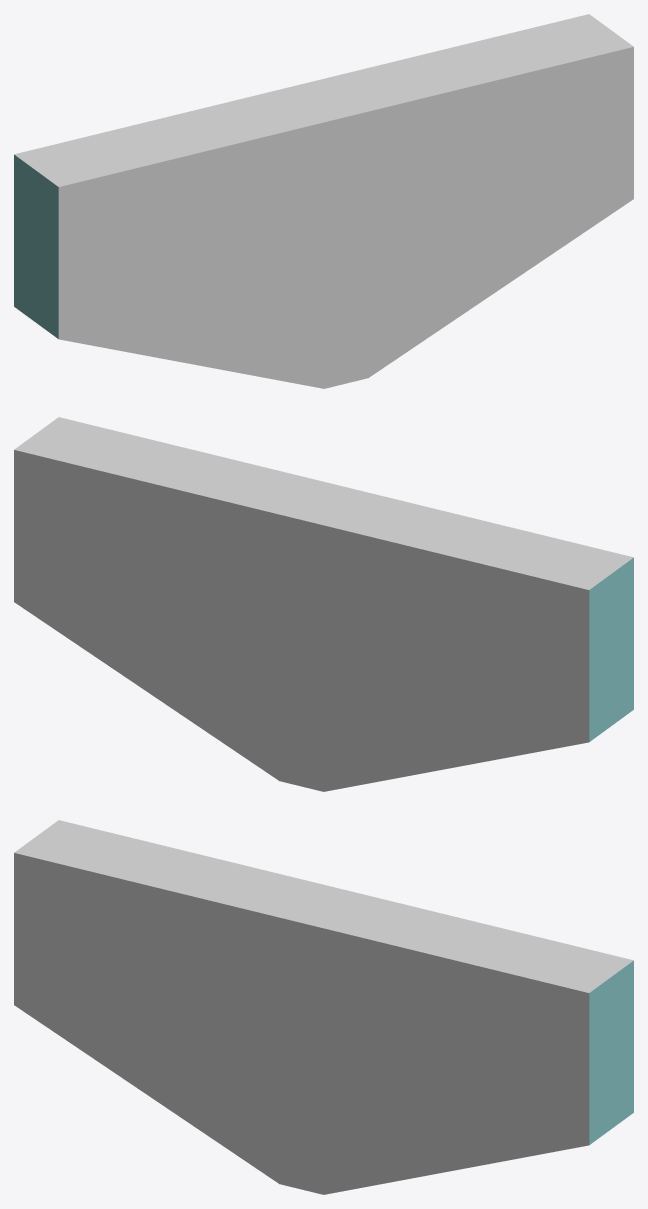
The model's file is W_M_maze_DecoLight_L3.fbx.
The picture shows the model from 3 angles, top to bottom: view 1: azimuth 30°, elevation 25°; view 2: azimuth 150°, elevation 25°; view 3: azimuth 330°, elevation 25°; orthographic projection.
Parts seen in each view (by area): view 1: W_M_maze_DecoLight_L3; view 2: W_M_maze_DecoLight_L3; view 3: W_M_maze_DecoLight_L3.
Boxes of the visible parts, x1,y1,x2,y2 form: W_M_maze_DecoLight_L3: [14, 14, 633, 388]; W_M_maze_DecoLight_L3: [14, 417, 633, 791]; W_M_maze_DecoLight_L3: [14, 820, 633, 1194].
Bounding box in the file's own units: 2.45 × 0.331 × 1.09.
